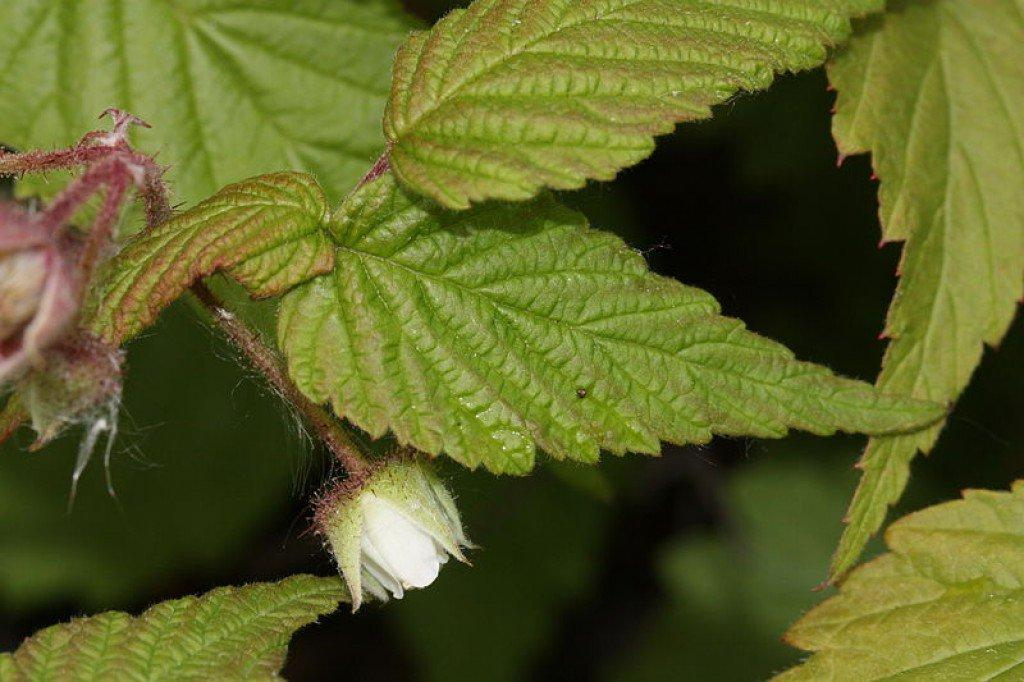Raspberry leaf: (263, 176, 973, 458), (371, 1, 896, 211), (73, 164, 312, 345)
